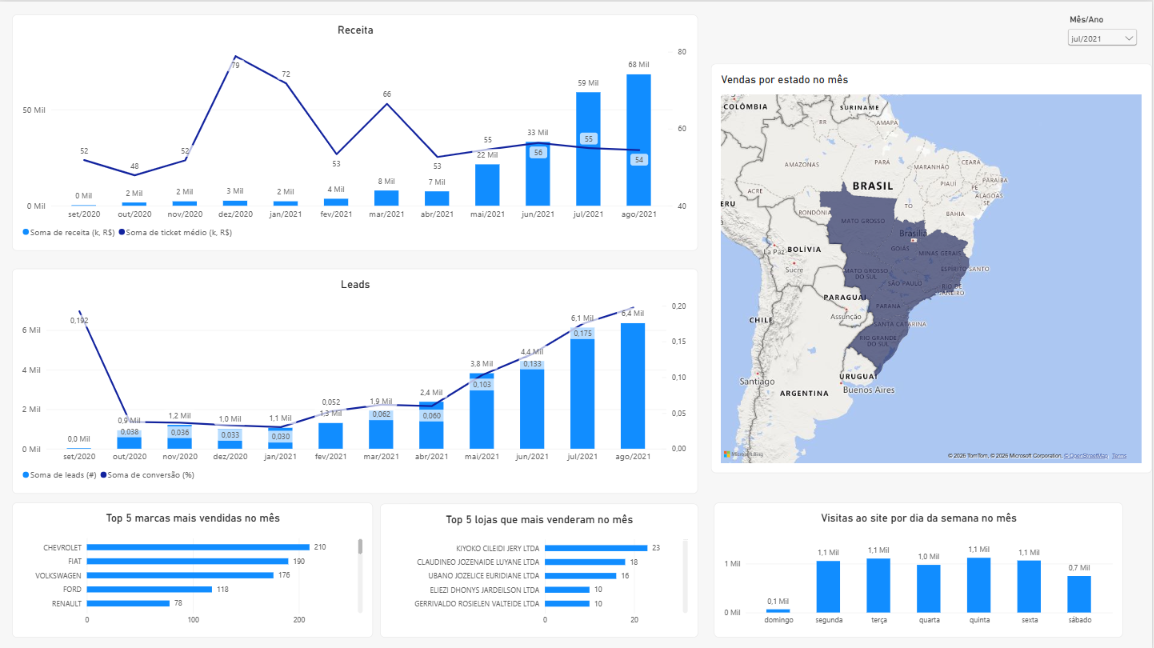

This screenshot's page, from the dashboard's own definition file:
{"tool":"powerbi","page":{"name":"Página 1","canvas":[1920,1080],"ordinal":0},"visuals":[{"type":"barChart","title":"Top 5 marcas mais vendidas no mês","fields":{"Category":["marcas_vendas.marca"],"Y":["Sum(marcas_vendas.vendas (#))"]},"box":[20,835,601.7,225],"z":0},{"type":"barChart","title":"Top 5 lojas que mais venderam no mês","fields":{"Category":["lojas_vendas.loja"],"Y":["Sum(lojas_vendas.vendas (#))"]},"box":[633.3,836.7,530,223.3],"z":1000},{"type":"columnChart","title":"Visitas ao site por dia da semana no mês","fields":{"Category":["visitas_dia_semana.dia da semana"],"Y":["Sum(visitas_dia_semana.visitas (#))"]},"box":[1190,835,681.7,225],"z":2000},{"type":"slicer","fields":{"Values":["receita_leads_mensal.Mês/Ano"]},"box":[1775,21.2,125,66.7],"z":3000},{"type":"lineStackedColumnComboChart","title":"Receita","fields":{"Category":["receita_leads_mensal.Mês/Ano"],"Y":["Sum(receita_leads_mensal.receita (k, R$))"],"Y2":["Sum(receita_leads_mensal.ticket médio (k, R$))"]},"box":[20,21.7,1143.3,393.3],"z":4000},{"type":"lineStackedColumnComboChart","title":"Leads","fields":{"Category":["receita_leads_mensal.Mês/Ano"],"Y":["Sum(receita_leads_mensal.leads (#))"],"Y2":["Sum(receita_leads_mensal.conversão (%))"]},"box":[20,445,1143.3,375],"z":5000},{"type":"filledMap","title":"Vendas por estado","fields":{"Category":["estados_vendas.estado","estados_vendas.país"]},"box":[1185,103.8,735,682.5],"z":6000}]}

Visuals, with their boxes in screenshot pixels (x1, y1, x2, y2), scaled from the page's 1920x1080 canvas onto the 1154x648 screenshot:
"Top 5 marcas mais vendidas no mês" barChart: bbox=[12, 501, 374, 636]
"Top 5 lojas que mais venderam no mês" barChart: bbox=[381, 502, 699, 636]
"Visitas ao site por dia da semana no mês" columnChart: bbox=[715, 501, 1125, 636]
slicer - receita_leads_mensal.Mês/Ano: bbox=[1067, 13, 1142, 53]
"Receita" lineStackedColumnComboChart: bbox=[12, 13, 699, 249]
"Leads" lineStackedColumnComboChart: bbox=[12, 267, 699, 492]
"Vendas por estado" filledMap: bbox=[712, 62, 1153, 472]
